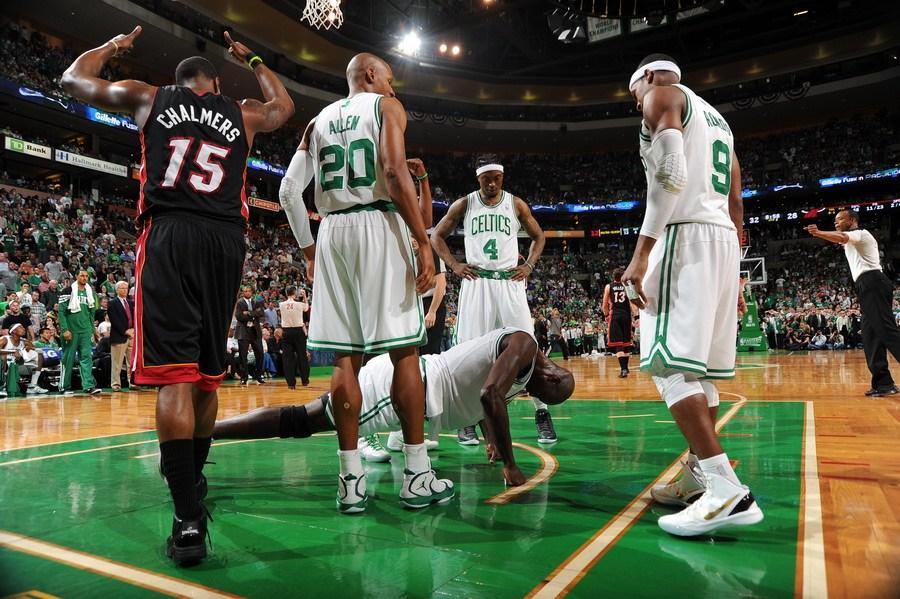up: (54, 10, 295, 574), (279, 46, 459, 515), (616, 40, 764, 542), (430, 144, 565, 451), (800, 206, 900, 406), (269, 280, 320, 402), (589, 258, 639, 381), (58, 271, 104, 395), (101, 275, 145, 392), (230, 278, 276, 389)
